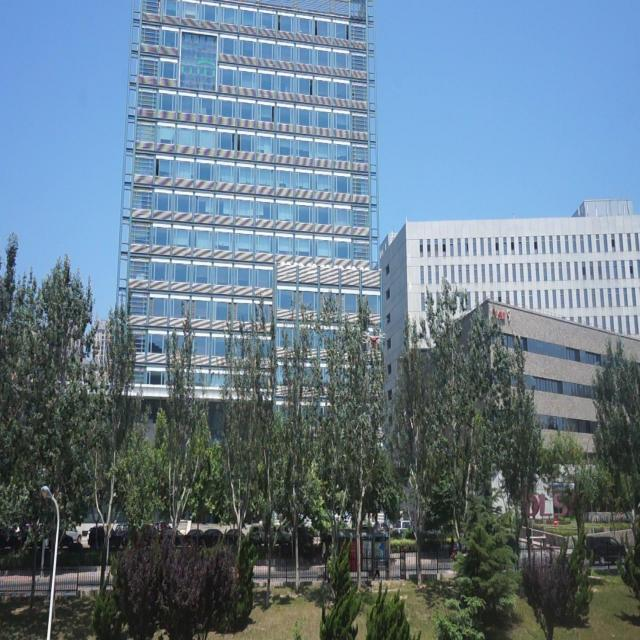UAV: (362, 330, 386, 350)
